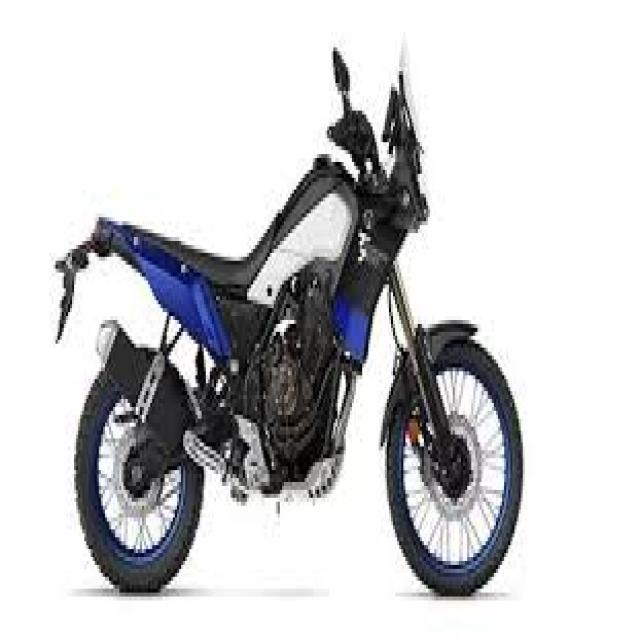MOTORCYCLE: (64, 44, 519, 606)
